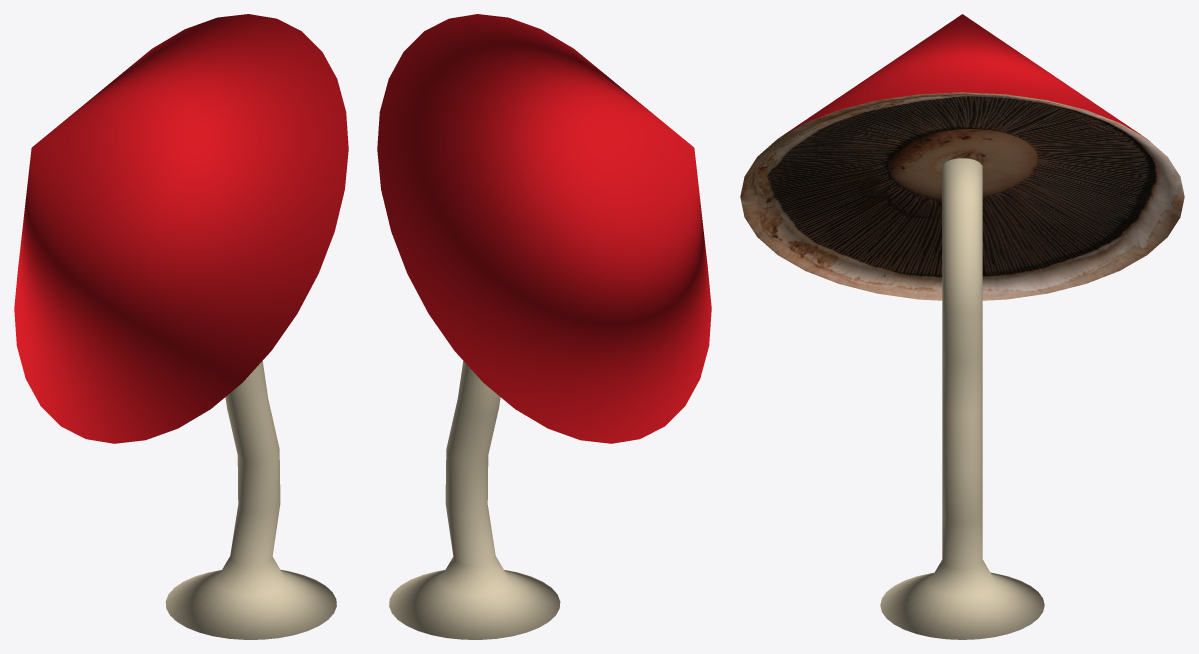
The model's file is champignon011.fbx.
3 renders of one model, left to right at view 1: azimuth 30°, elevation 25°; view 2: azimuth 150°, elevation 25°; view 3: azimuth 270°, elevation 25°, orthographic. The views are drawn at different scales.
Parts seen in each view (by area): view 1: Cylinder; view 2: Cylinder; view 3: Cylinder.
Part boxes in pixels (left/top/right/bottom): Cylinder: left=14, top=14, right=348, bottom=639; Cylinder: left=377, top=14, right=711, bottom=639; Cylinder: left=740, top=14, right=1184, bottom=639.
Size of the model in its own units: 79.14 by 144 by 108.
